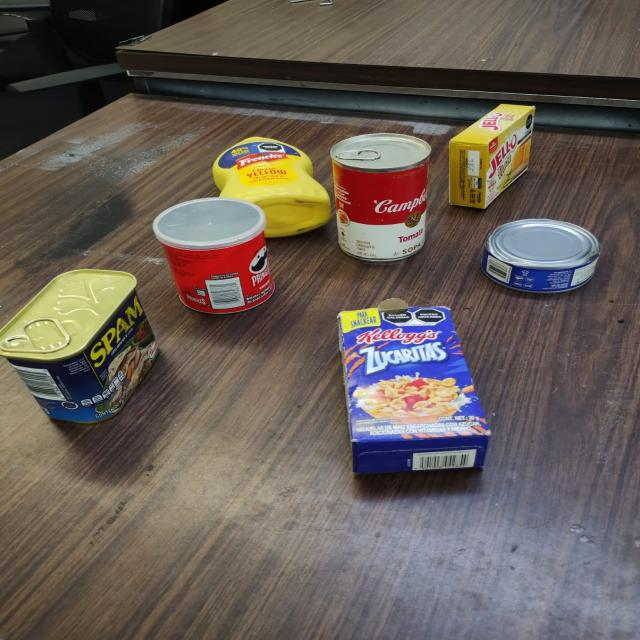can of cream: (327, 134, 429, 262)
can of tuna: (481, 218, 598, 292)
cereal: (337, 305, 491, 474)
chips: (152, 200, 272, 317)
jelly: (446, 103, 537, 208)
mustard: (211, 138, 331, 236)
spam: (2, 270, 163, 416)
